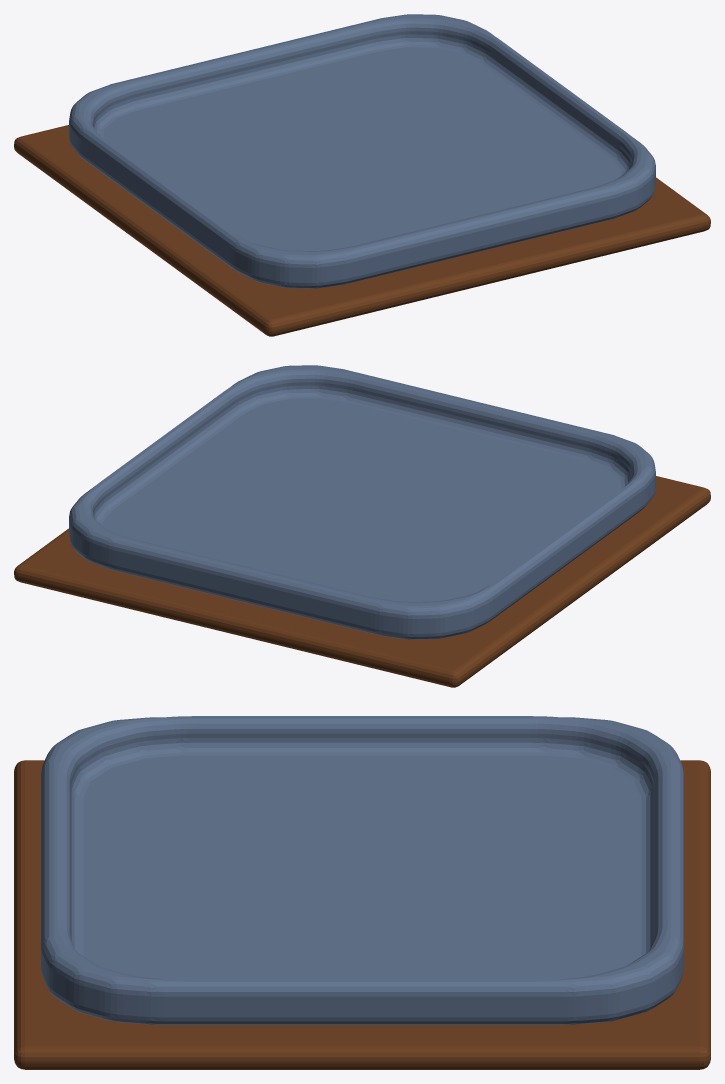
Rendered from Factory@PizzaFinish.fbx.
3 views of the same model, one above another, from view 1: azimuth 30°, elevation 25°; view 2: azimuth 150°, elevation 25°; view 3: azimuth 270°, elevation 25° (orthographic). The views are drawn at different scales.
Parts seen in each view (by area): view 1: Boole, Plate; view 2: Boole, Plate; view 3: Boole, Plate.
Part boxes in pixels (box(x1,y1,x2,y2)): Boole: box(69, 14, 655, 288); Plate: box(14, 125, 710, 336); Boole: box(69, 365, 655, 639); Plate: box(14, 476, 710, 687); Boole: box(41, 716, 683, 1024); Plate: box(14, 760, 710, 1069).
Bounding box in the file's own units: 200 × 24.5 × 200.
